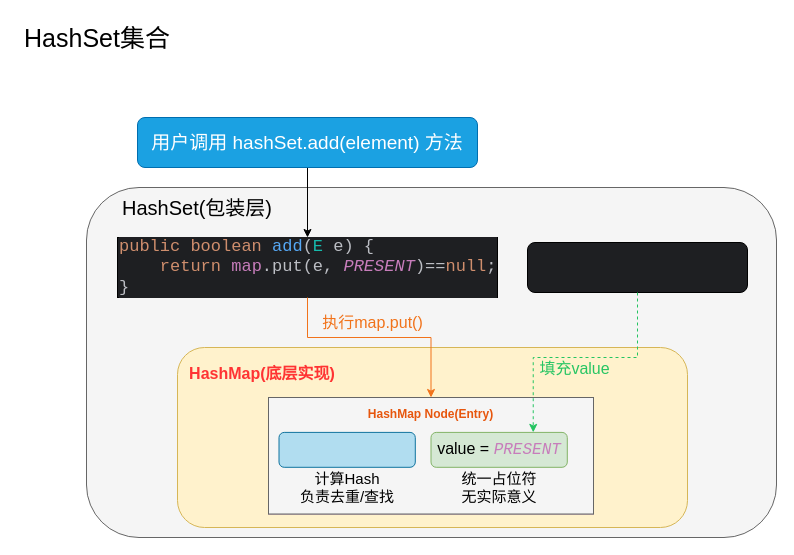
Some shapes in this 794 by 555 pixel diagram are drawn without their labels. The centre of each missing label's shape, as x and y in pixels:
"key = element" goes at (x=346, y=449).
"PRESENT static final Object" goes at (x=637, y=267).
